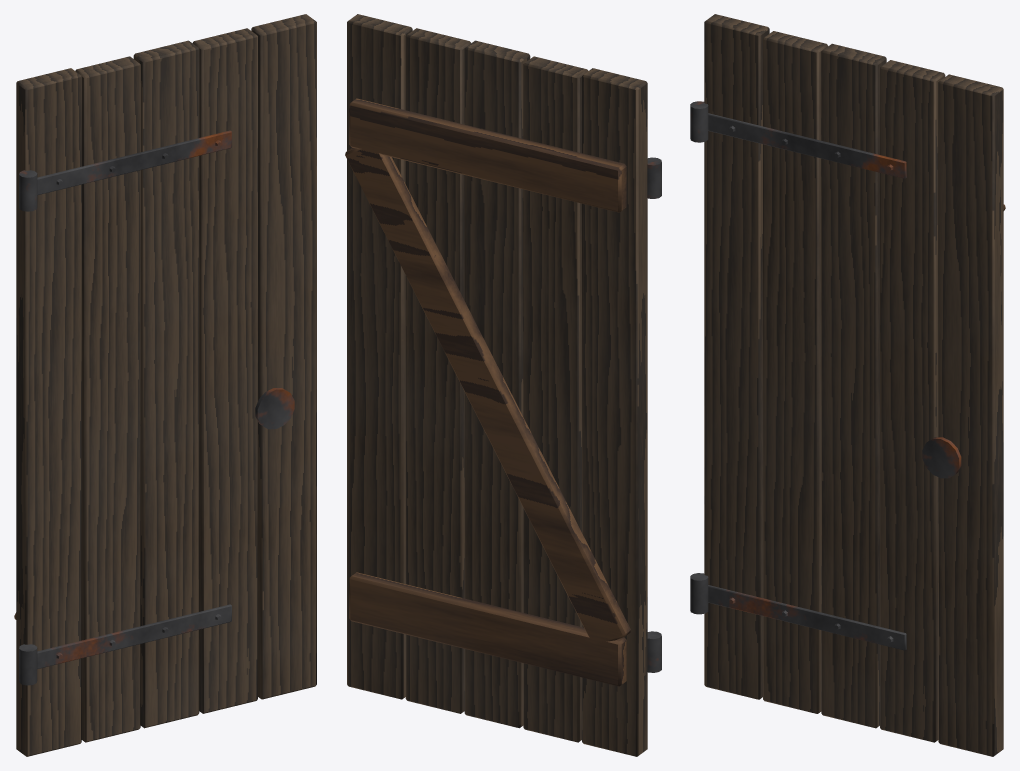
The model's file is SM_Door_L.glb.
3 renders of one model, left to right at view 1: azimuth 30°, elevation 25°; view 2: azimuth 150°, elevation 25°; view 3: azimuth 330°, elevation 25°, orthographic.
Parts seen in each view (by area): view 1: SM_Door_L; view 2: SM_Door_L; view 3: SM_Door_L.
Part boxes in pixels (x1,y1,x2,y2): SM_Door_L: (14, 14, 316, 756); SM_Door_L: (345, 14, 661, 756); SM_Door_L: (690, 14, 1005, 756).
Size of the model in its own units: 1.11 by 2.37 by 0.17.
Materials: 1 (1 with a texture image).
